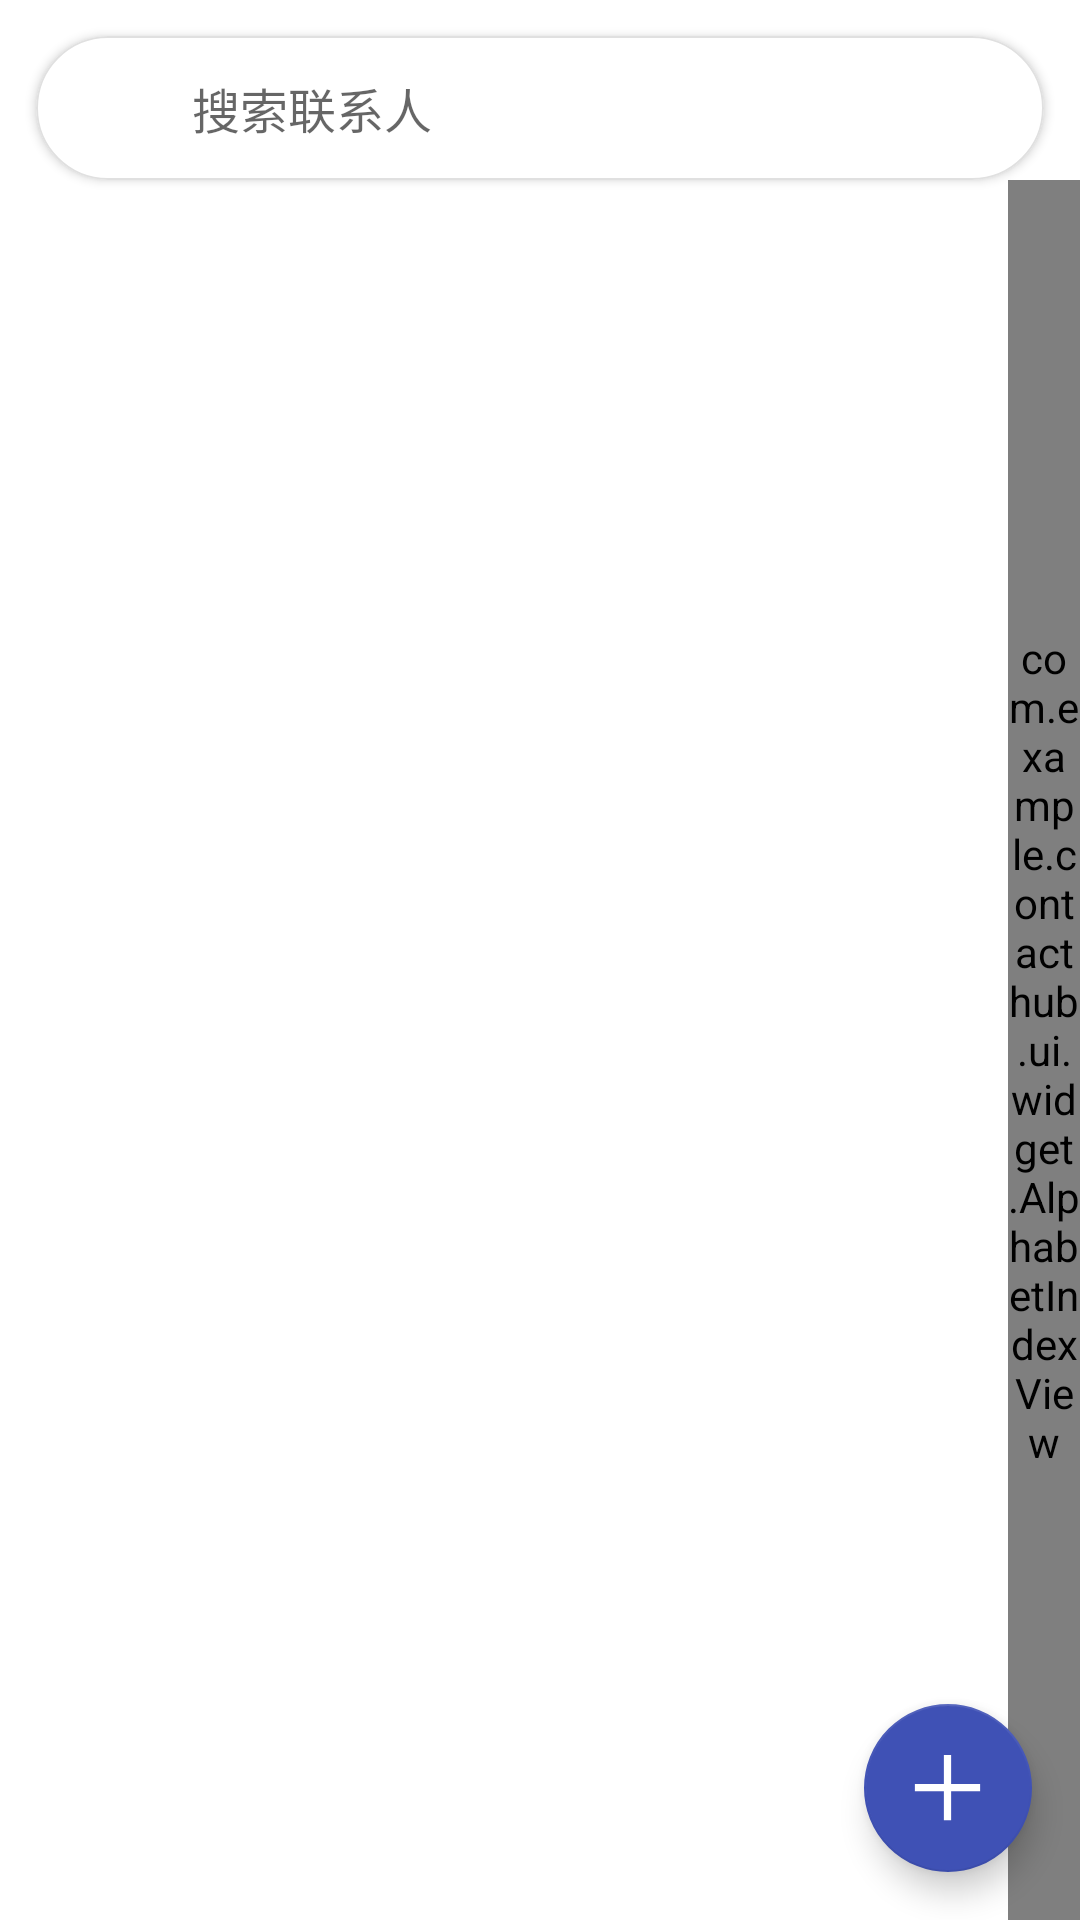

Icons on this 1080w x 1920h Android screen, each with the point to tap as point (x, y):
新增联系人: point (948, 1788)
